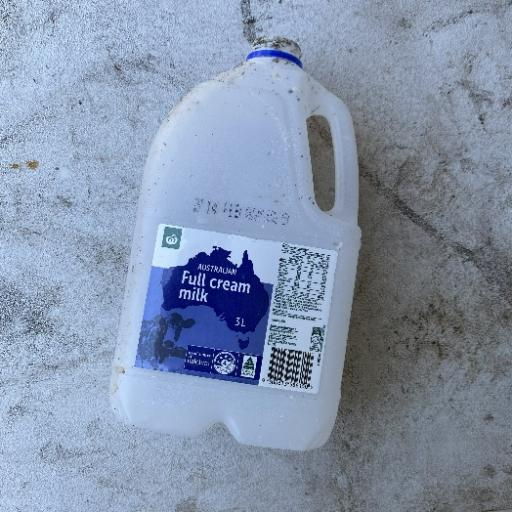Plastic: (108, 40, 364, 452)
